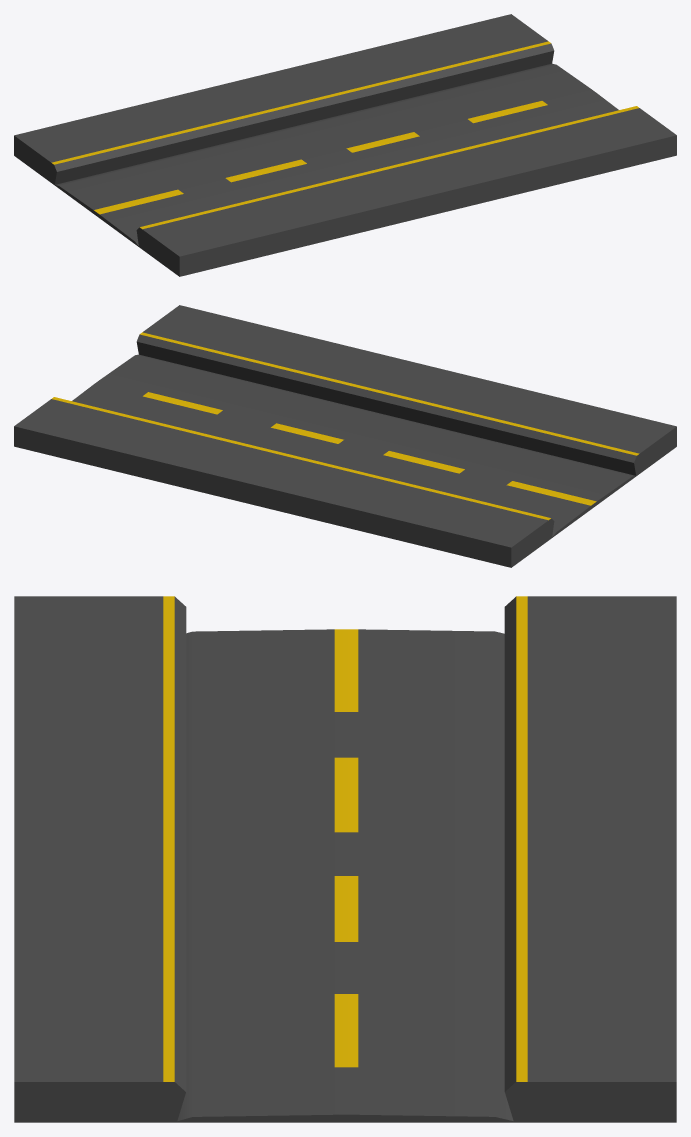
The model's file is Road_straight.fbx.
The picture shows the model from 3 angles, top to bottom: view 1: azimuth 30°, elevation 25°; view 2: azimuth 150°, elevation 25°; view 3: azimuth 270°, elevation 25°; orthographic projection. The views are drawn at different scales.
Parts seen in each view (by area): view 1: pCube1; view 2: pCube1; view 3: pCube1.
Boxes of the visible parts, left/top/right/bottom form: pCube1: left=14, top=14, right=676, bottom=276; pCube1: left=14, top=305, right=676, bottom=567; pCube1: left=14, top=596, right=676, bottom=1122.
Bounding box in the file's own units: 843 × 32.86 × 486.
